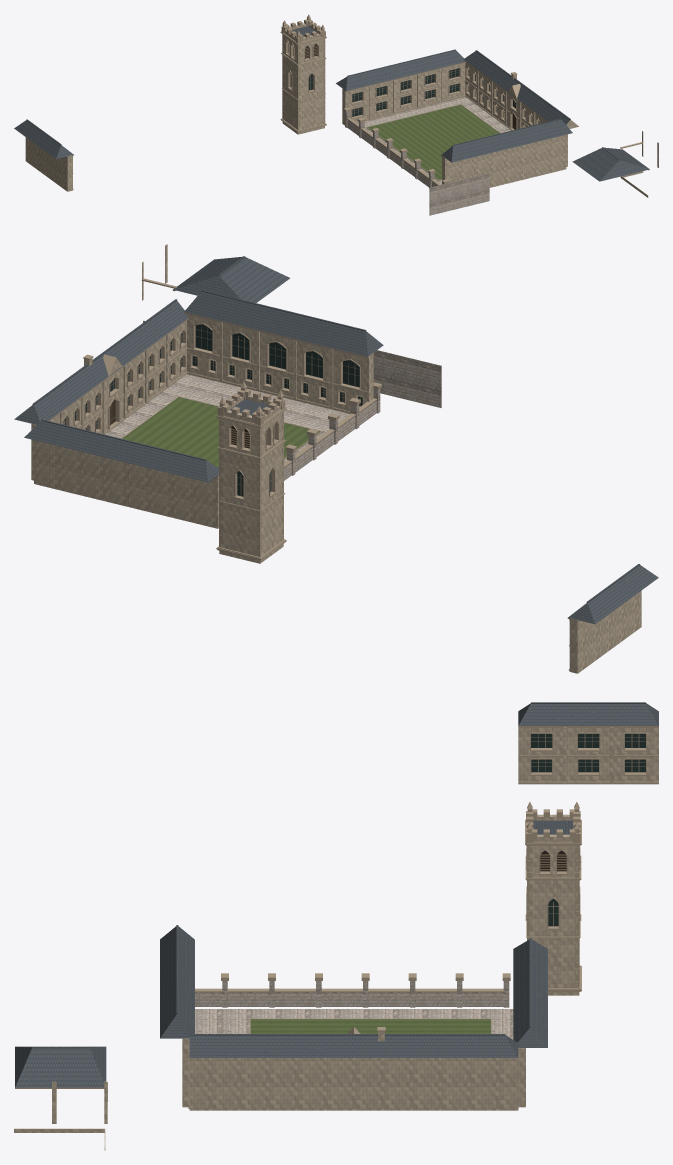
File: first_court_exterior.glb
3 views of the same model, one above another, from view 1: azimuth 30°, elevation 25°; view 2: azimuth 150°, elevation 25°; view 3: azimuth 270°, elevation 25° (orthographic). The views are drawn at different scales.
Visible parts, largest first — view 1: CourtRanges ashlar, CourtRanges slate, CourtRanges lawn, CourtRanges dressings, CourtTower ashlar, CloisterFacing arcade stone, CourtTower dressings, LookoutFacing slate, ArrivalYard ashlar, CourtRanges arcade stone, CourtRanges glass, ArrivalYard slate (+1 smaller); view 2: CourtRanges ashlar, CourtRanges slate, CourtTower ashlar, CourtRanges dressings, CloisterFacing arcade stone, CourtRanges lawn, CourtTower dressings, CourtRanges arcade stone, LookoutFacing slate, ArrivalYard ashlar, CourtRanges glass, ArrivalYard slate (+1 smaller); view 3: CourtRanges ashlar, CourtRanges slate, CourtTower ashlar, ArrivalYard ashlar, CloisterFacing arcade stone, CourtRanges arcade stone, LookoutFacing slate, CourtRanges lawn, CourtTower dressings, ArrivalYard slate, ArrivalYard dressings, CloisterFacing dressings (+2 smaller).
Part boxes in pixels (box(x1,y1,x2,y2)): CourtRanges ashlar: box(342, 62, 578, 187); CourtRanges slate: box(336, 49, 572, 162); CourtRanges lawn: box(367, 104, 499, 179); CourtRanges dressings: box(345, 60, 547, 180); CourtTower ashlar: box(282, 23, 324, 134); CloisterFacing arcade stone: box(345, 111, 489, 215); CourtTower dressings: box(280, 14, 326, 132); LookoutFacing slate: box(572, 147, 649, 181); ArrivalYard ashlar: box(25, 137, 72, 191); CourtRanges arcade stone: box(358, 96, 510, 184); CourtRanges glass: box(352, 68, 539, 123); ArrivalYard slate: box(14, 119, 73, 158); CourtRanges ashlar: box(31, 314, 373, 528); CourtRanges slate: box(14, 290, 383, 482); CourtTower ashlar: box(219, 394, 283, 563); CourtRanges dressings: box(49, 312, 369, 459); CloisterFacing arcade stone: box(284, 350, 441, 480); CourtRanges lawn: box(122, 397, 320, 467); CourtTower dressings: box(216, 381, 286, 560); CourtRanges arcade stone: box(104, 374, 349, 462); LookoutFacing slate: box(173, 256, 290, 302); ArrivalYard ashlar: box(569, 590, 641, 673); CourtRanges glass: box(64, 324, 362, 429); ArrivalYard slate: box(568, 564, 658, 624); CourtRanges ashlar: box(182, 1031, 525, 1110); CourtRanges slate: box(160, 925, 547, 1057); CourtTower ashlar: box(527, 814, 579, 995); ArrivalYard ashlar: box(518, 727, 658, 784); CloisterFacing arcade stone: box(195, 981, 509, 1007); CourtRanges arcade stone: box(188, 1009, 518, 1108); LookoutFacing slate: box(15, 1046, 106, 1087); CourtRanges lawn: box(250, 1019, 490, 1033); CourtTower dressings: box(525, 802, 581, 991); ArrivalYard slate: box(518, 702, 658, 725); ArrivalYard dressings: box(518, 726, 658, 783); CloisterFacing dressings: box(195, 973, 510, 992).
Size of the model in its own units: 76.4 by 16.3 by 54.99.
9 materials, 4 textured.
